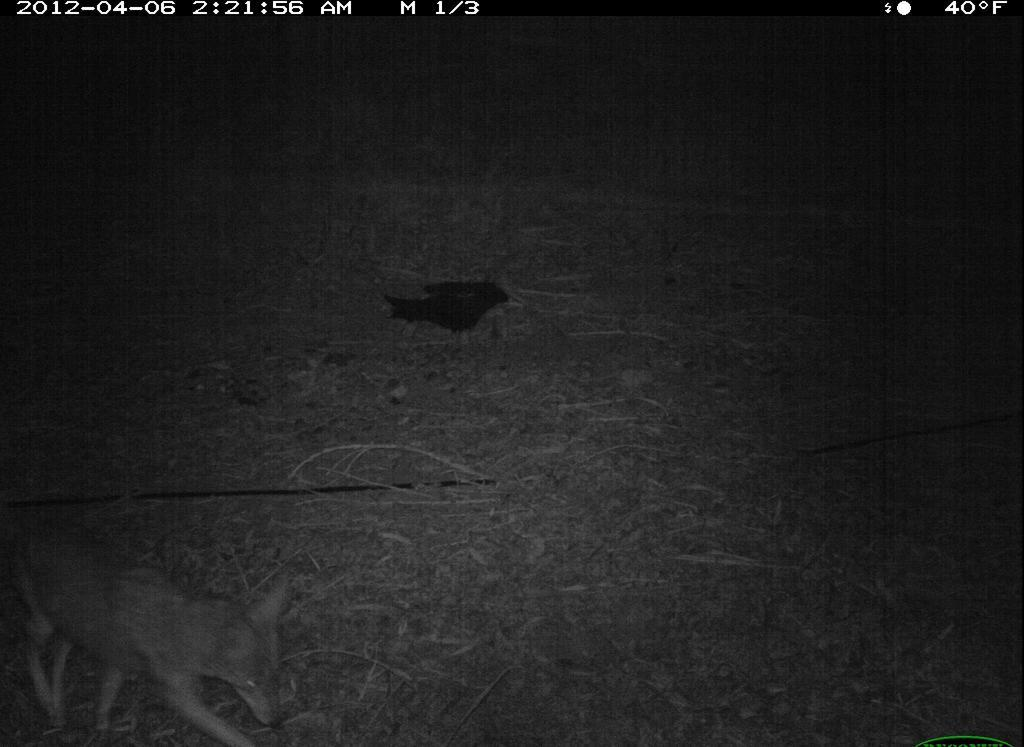coyote: (17, 500, 309, 747)
